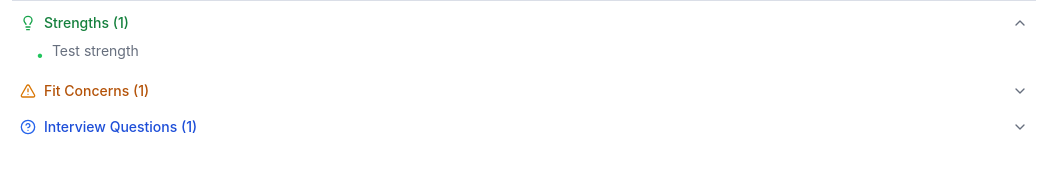
Test: MatchInsights › expands and collapses sections on click
The image size is (1048, 184).
// Fit concerns should be collapsed by default
Click the button "Fit Concerns (1)" at x=91, y=90, box [12,77,1036,105]
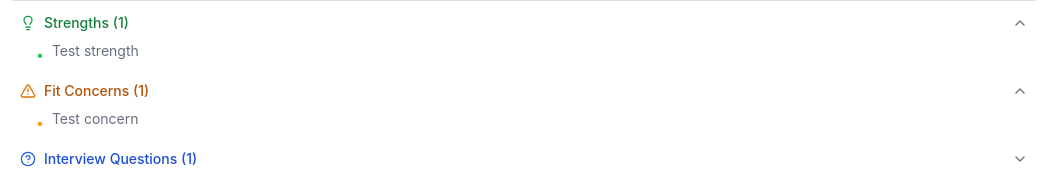
Expected: the list item "Test concern" is shown, [52,110,138,127]
